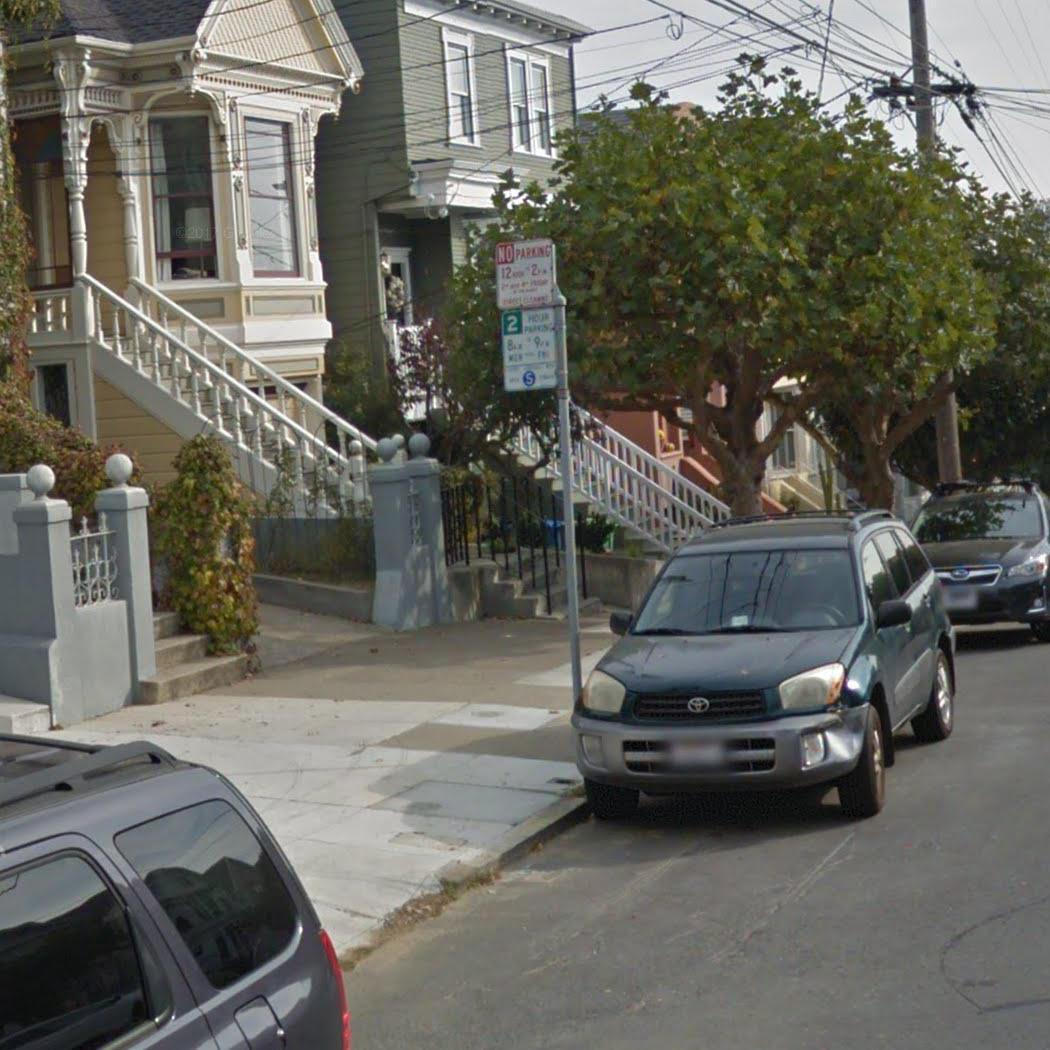2 Hour Parking: (499, 306, 566, 392)
No Parking: (492, 236, 557, 311)
